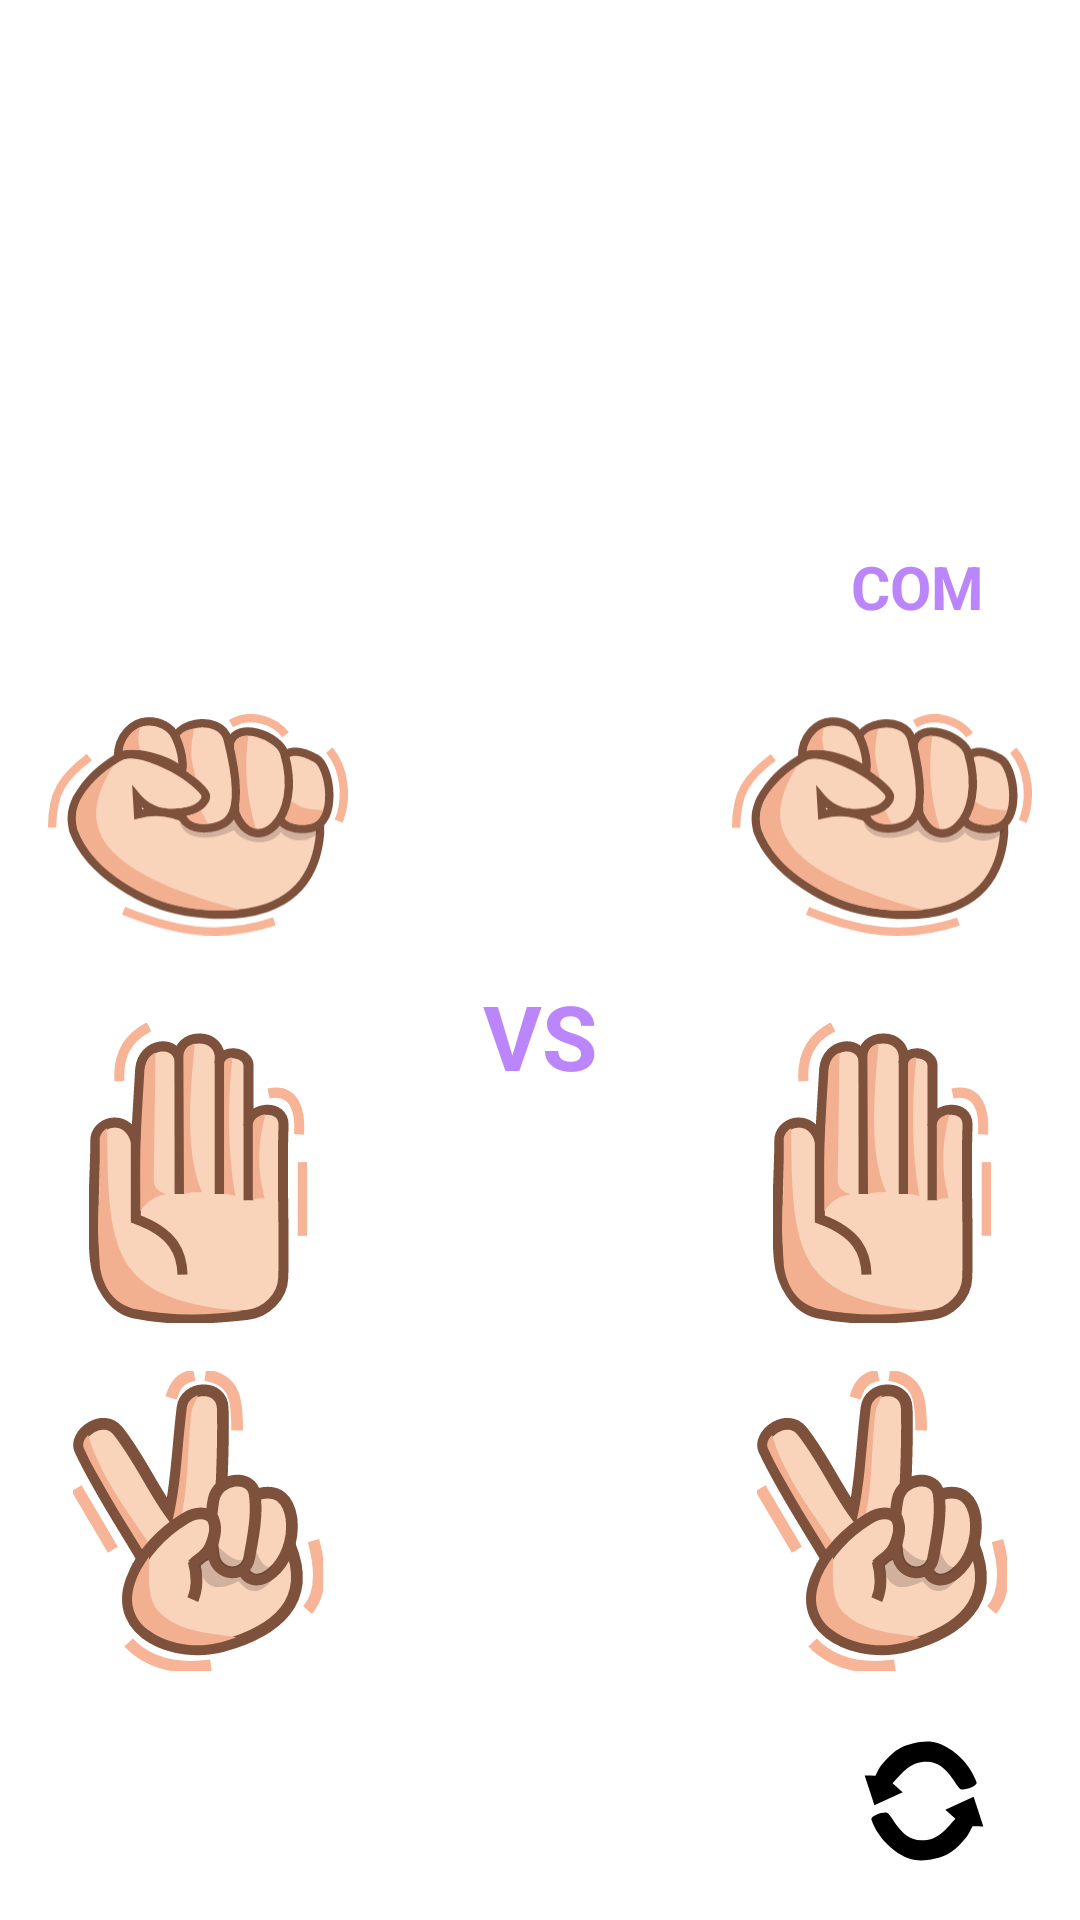

Where icons sit on this 1080 × 1920 app screen, as (x1, y1, x2, y2):
Paper: (89, 1023, 307, 1323), (773, 1023, 991, 1323)
Retry: (864, 1741, 984, 1861)
Rock: (48, 714, 348, 936), (732, 714, 1032, 936)
Scissor: (73, 1371, 323, 1671), (757, 1371, 1007, 1671)
